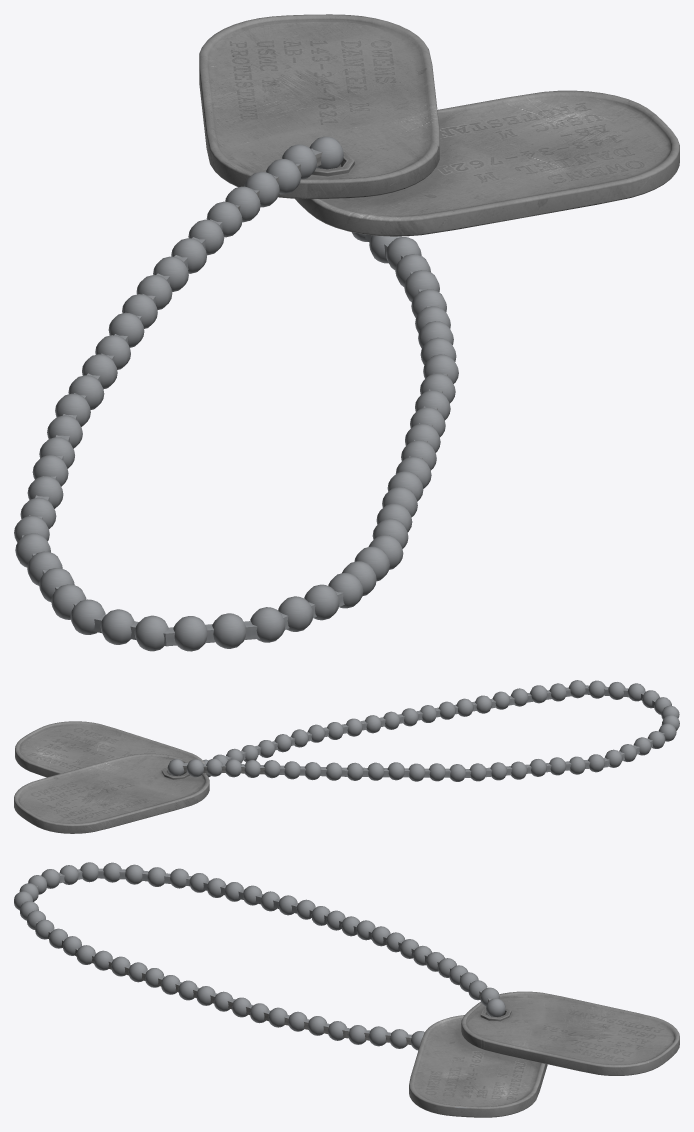
The model's file is d_tags.glb.
The picture shows the model from 3 angles, top to bottom: view 1: azimuth 30°, elevation 25°; view 2: azimuth 150°, elevation 25°; view 3: azimuth 270°, elevation 25°; orthographic projection. The views are drawn at different scales.
Parts seen in each view (by area): view 1: balls_low, tag1_low, tag2_low, chaom_low; view 2: balls_low, tag1_low, tag2_low, chaom_low; view 3: balls_low, tag1_low, tag2_low, chaom_low.
Boxes of the visible parts, box(x1,y1,x2,y2) form: balls_low: box(14, 136, 458, 651); tag1_low: box(199, 14, 439, 198); tag2_low: box(295, 90, 679, 236); chaom_low: box(22, 148, 447, 646); balls_low: box(167, 680, 679, 781); tag1_low: box(14, 753, 209, 833); tag2_low: box(15, 721, 207, 777); chaom_low: box(169, 685, 672, 777); balls_low: box(14, 862, 505, 1050); tag1_low: box(461, 991, 679, 1075); tag2_low: box(409, 1015, 547, 1117); chaom_low: box(29, 868, 499, 1044).
Bounding box in the file's own units: 654 × 64.14 × 725.
1 material, 1 textured.
